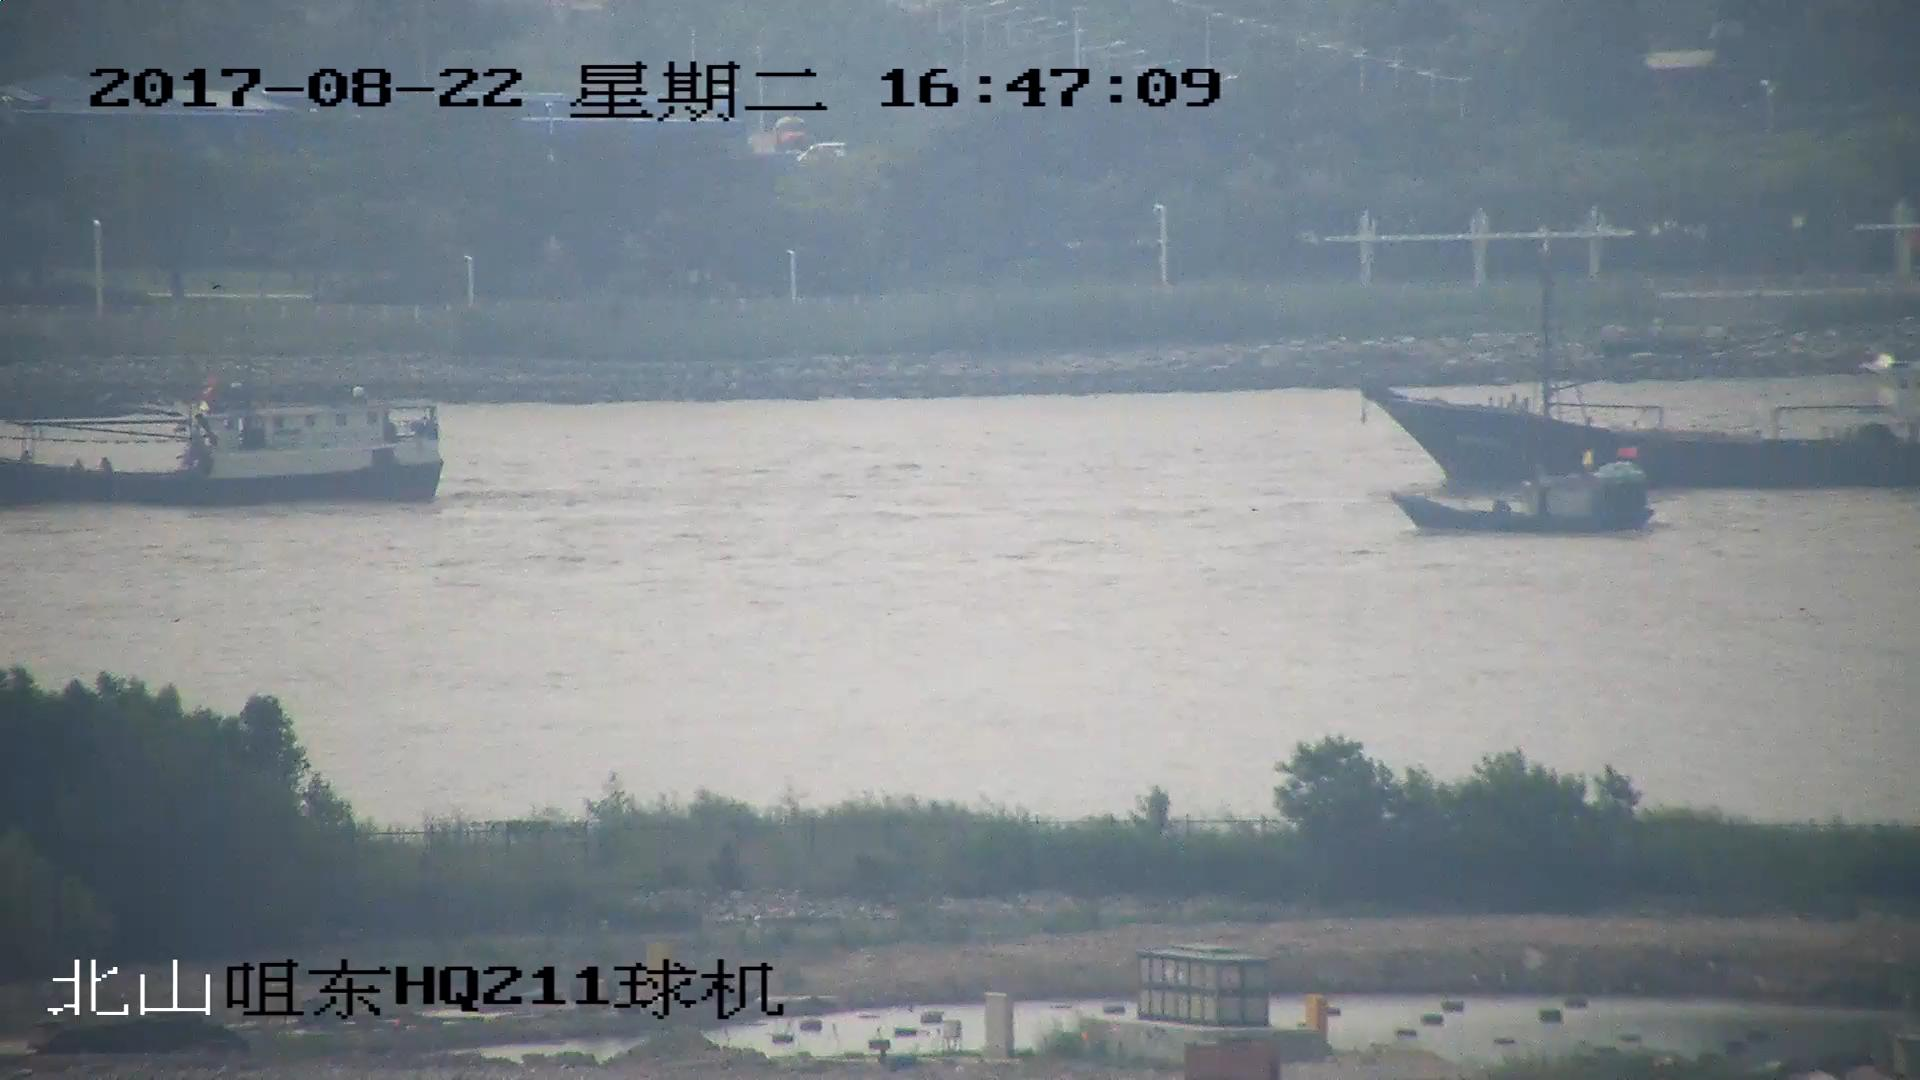fishing boat: (1361, 252, 1920, 490), (1, 388, 451, 505), (1397, 444, 1651, 537)
